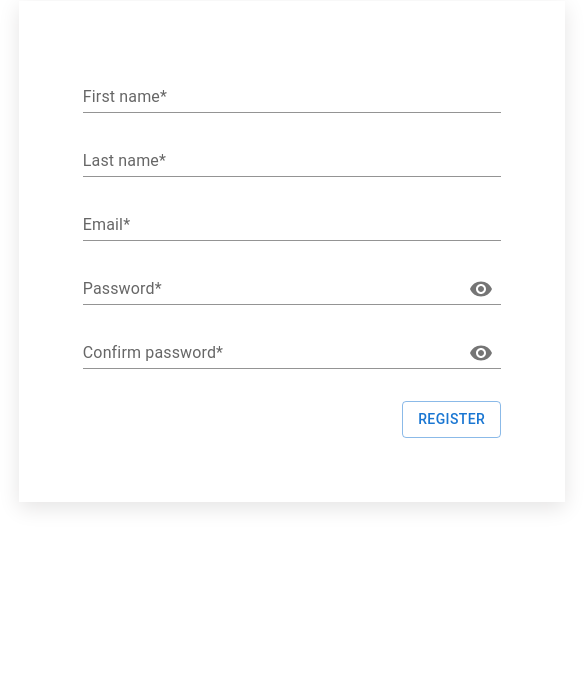
it: Register page component › Should show an error message when firstname field is empty
This screenshot has width=585, height=673.
expect the field labelled "First name*" is shown: met, box [83,81,501,113]
Click the button with test id "registerButton".
click(452, 419)  # box [402,401,501,438]
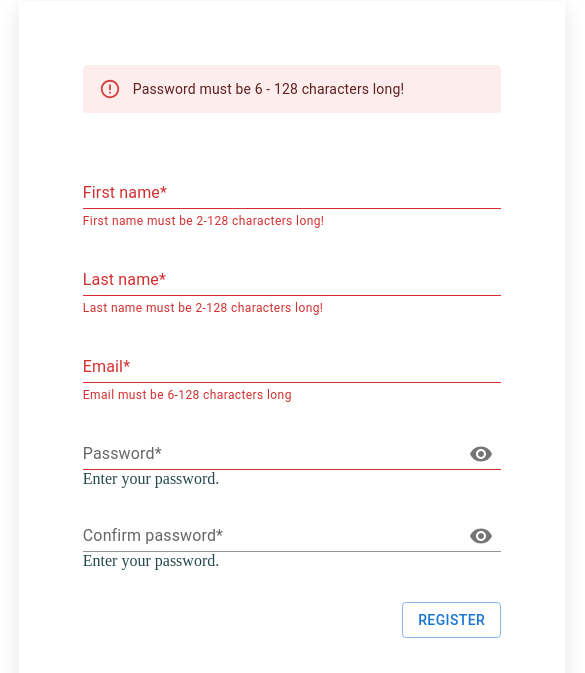
expect the text "First name must be 2-128 characters long!" is shown: met, box [83,214,324,228]
Type "firstname" into the field labelled "First name*".
click(292, 193); type("firstname")  # box [83,177,501,209]
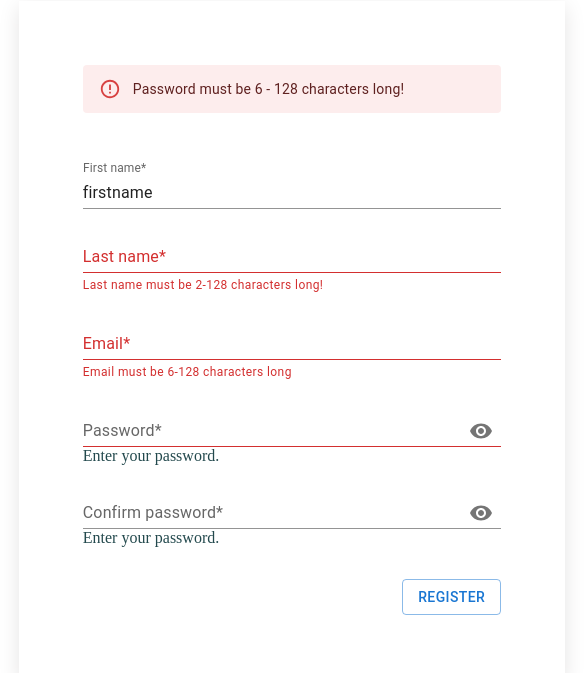
expect the text "First name must be 2-128 characters long!" is gone: met
